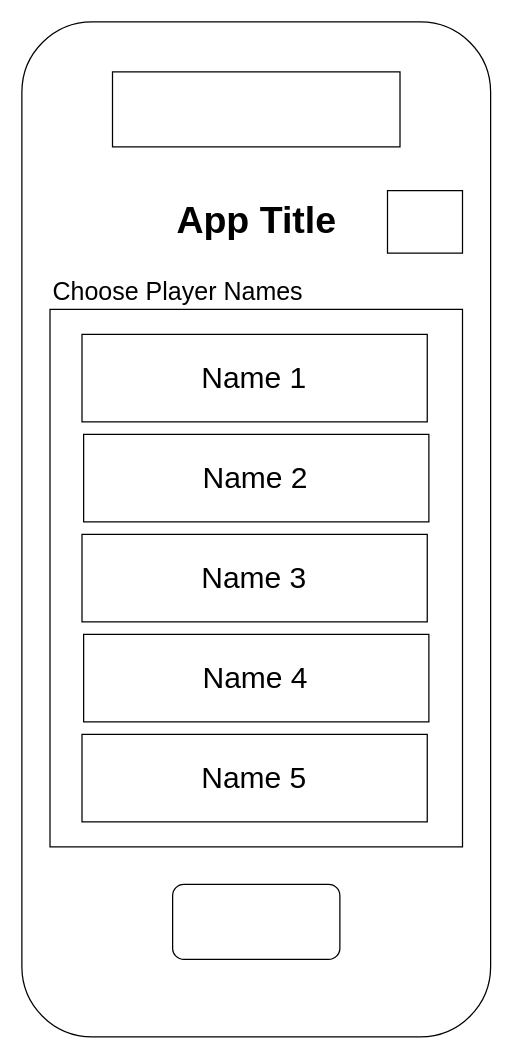
This 513x1059 diagram has some shape labels left out. The centre of each missing label's shape, as x and y in pixels:
Company Logo: the point at 255,109
lang: the point at 424,221
Start: the point at 255,921
